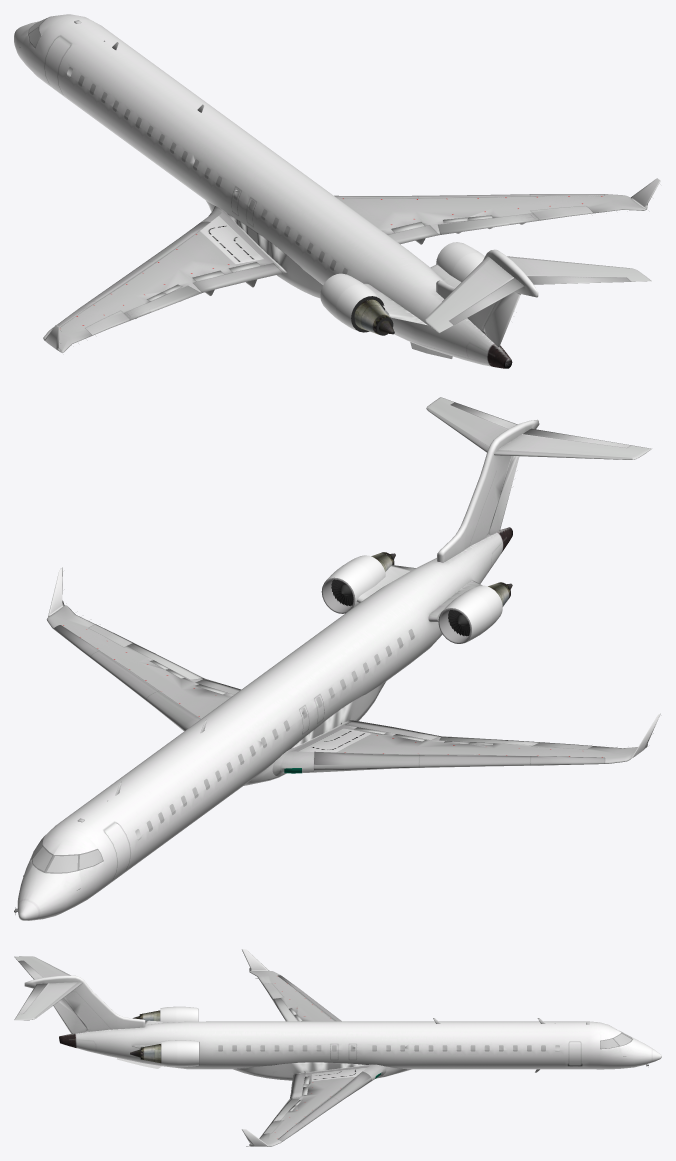
Rendered from CRJ9.glb.
The picture shows the model from 3 angles, top to bottom: view 1: azimuth 30°, elevation 25°; view 2: azimuth 150°, elevation 25°; view 3: azimuth 270°, elevation 25°; orthographic projection. The views are drawn at different scales.
Parts seen in each view (by area): view 1: Fuselage, Wings, Hstabs, Belly, Vstab, Windows, FlapL1, SlatsL, Rudder, FlapR2, Nozzle_001, EnginePylons (+12 smaller); view 2: Fuselage, Wings, Hstabs, Vstab, SlatsL, SlatsR, Belly, Windows, CockpitWindows, Nacelle_001, EnginePylons, Nacelle (+1 smaller); view 3: Fuselage, Wings, Vstab, Hstabs, Belly, SlatsR, Windows, Nacelle, Rudder, Winglets, Reverser, Nozzle (+2 smaller).
Part boxes in pixels (left/top/right/bottom): Fuselage: left=14, top=14, right=512, bottom=368; Wings: left=43, top=194, right=645, bottom=352; Hstabs: left=425, top=256, right=651, bottom=333; Belly: left=205, top=200, right=322, bottom=298; Vstab: left=436, top=249, right=538, bottom=346; Windows: left=66, top=67, right=347, bottom=274; FlapL1: left=193, top=263, right=282, bottom=295; SlatsL: left=51, top=221, right=210, bottom=328; Rudder: left=483, top=292, right=520, bottom=346; FlapR2: left=438, top=214, right=539, bottom=234; Nozzle_001: left=354, top=299, right=394, bottom=334; EnginePylons: left=364, top=264, right=461, bottom=325; Fuselage: left=17, top=527, right=512, bottom=920; Wings: left=46, top=605, right=637, bottom=776; Hstabs: left=426, top=397, right=651, bottom=459; Vstab: left=437, top=419, right=539, bottom=562; SlatsL: left=314, top=751, right=604, bottom=771; SlatsR: left=54, top=625, right=200, bottom=731; Belly: left=244, top=682, right=385, bottom=785; Windows: left=135, top=629, right=414, bottom=840; CockpitWindows: left=32, top=837, right=102, bottom=872; Nacelle_001: left=441, top=592, right=491, bottom=643; EnginePylons: left=356, top=565, right=482, bottom=621; Nacelle: left=324, top=562, right=374, bottom=606; Fuselage: left=59, top=1021, right=661, bottom=1069; Wings: left=249, top=970, right=386, bottom=1146; Vstab: left=24, top=975, right=145, bottom=1033; Hstabs: left=14, top=956, right=82, bottom=1020; Belly: left=233, top=1062, right=411, bottom=1080; SlatsR: left=278, top=1071, right=371, bottom=1141; Windows: left=218, top=1045, right=559, bottom=1051; Nacelle: left=177, top=1040, right=198, bottom=1066; Rudder: left=53, top=998, right=87, bottom=1033; Winglets: left=242, top=949, right=268, bottom=1146; Reverser: left=161, top=1040, right=177, bottom=1066; Nozzle: left=130, top=1044, right=161, bottom=1063.
Size of the model in its own units: 23.91 by 6.09 by 36.36.
Materials: 11 (5 with a texture image).
